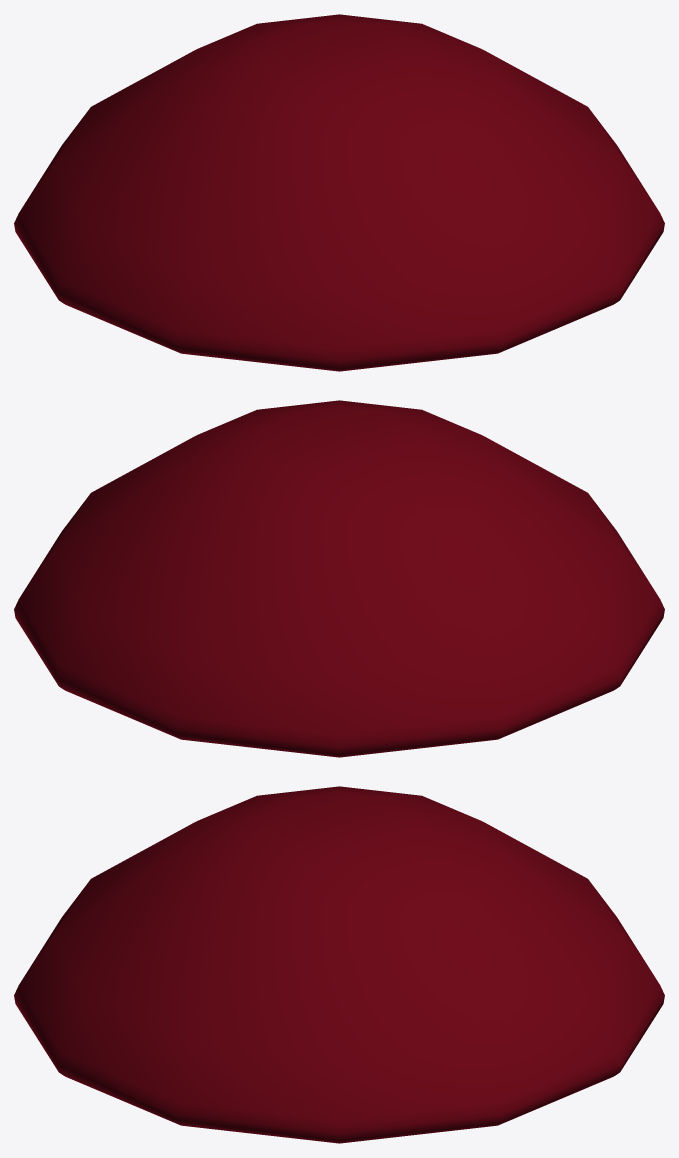
File: shroom scout cap.fbx
3 views of the same model, one above another, from view 1: azimuth 30°, elevation 25°; view 2: azimuth 150°, elevation 25°; view 3: azimuth 270°, elevation 25° (orthographic).
Visible parts, largest first — view 1: shroom scout cap; view 2: shroom scout cap; view 3: shroom scout cap.
Boxes of the visible parts, box(x1,y1,x2,y2) form: shroom scout cap: box(14, 14, 664, 371); shroom scout cap: box(14, 400, 664, 757); shroom scout cap: box(14, 786, 664, 1143).
Size of the model in its own units: 191 by 59.86 by 191.
